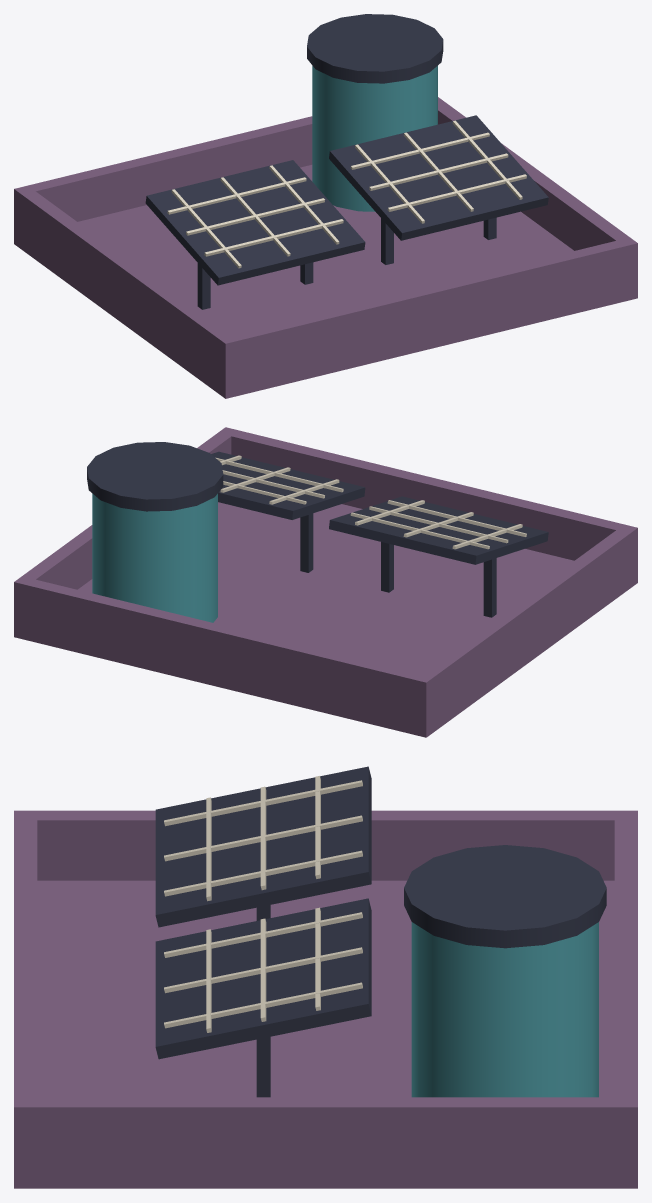
Rendered from roof_productive_banks.glb.
The picture shows the model from 3 angles, top to bottom: view 1: azimuth 30°, elevation 25°; view 2: azimuth 150°, elevation 25°; view 3: azimuth 270°, elevation 25°; orthographic projection. The views are drawn at different scales.
Visible parts, largest first — view 1: roof_productive_banks patina, roof_productive_banks solar, roof_productive_banks river, roof_productive_banks ink, roof_productive_banks mist, roof_productive_banks steel; view 2: roof_productive_banks patina, roof_productive_banks river, roof_productive_banks solar, roof_productive_banks ink, roof_productive_banks mist, roof_productive_banks steel; view 3: roof_productive_banks patina, roof_productive_banks solar, roof_productive_banks river, roof_productive_banks ink, roof_productive_banks mist, roof_productive_banks steel.
Boxes of the visible parts, x1,y1,x2,y2 form: roof_productive_banks patina: (14,97,637,398); roof_productive_banks solar: (145,115,548,285); roof_productive_banks river: (312,65,437,211); roof_productive_banks ink: (307,14,443,83); roof_productive_banks mist: (167,120,526,268); roof_productive_banks steel: (197,217,496,309); roof_productive_banks patina: (14,427,637,737); roof_productive_banks river: (92,493,217,622); roof_productive_banks solar: (211,451,548,564); roof_productive_banks ink: (87,442,223,511); roof_productive_banks mist: (215,455,526,549); roof_productive_banks steel: (300,513,496,617); roof_productive_banks patina: (14,810,637,1188); roof_productive_banks solar: (155,766,371,1059); roof_productive_banks river: (411,922,598,1097); roof_productive_banks ink: (404,845,606,948); roof_productive_banks mist: (164,776,362,1032); roof_productive_banks steel: (256,905,270,1097).
Size of the model in its own units: 0.9 by 0.3275 by 0.8.
